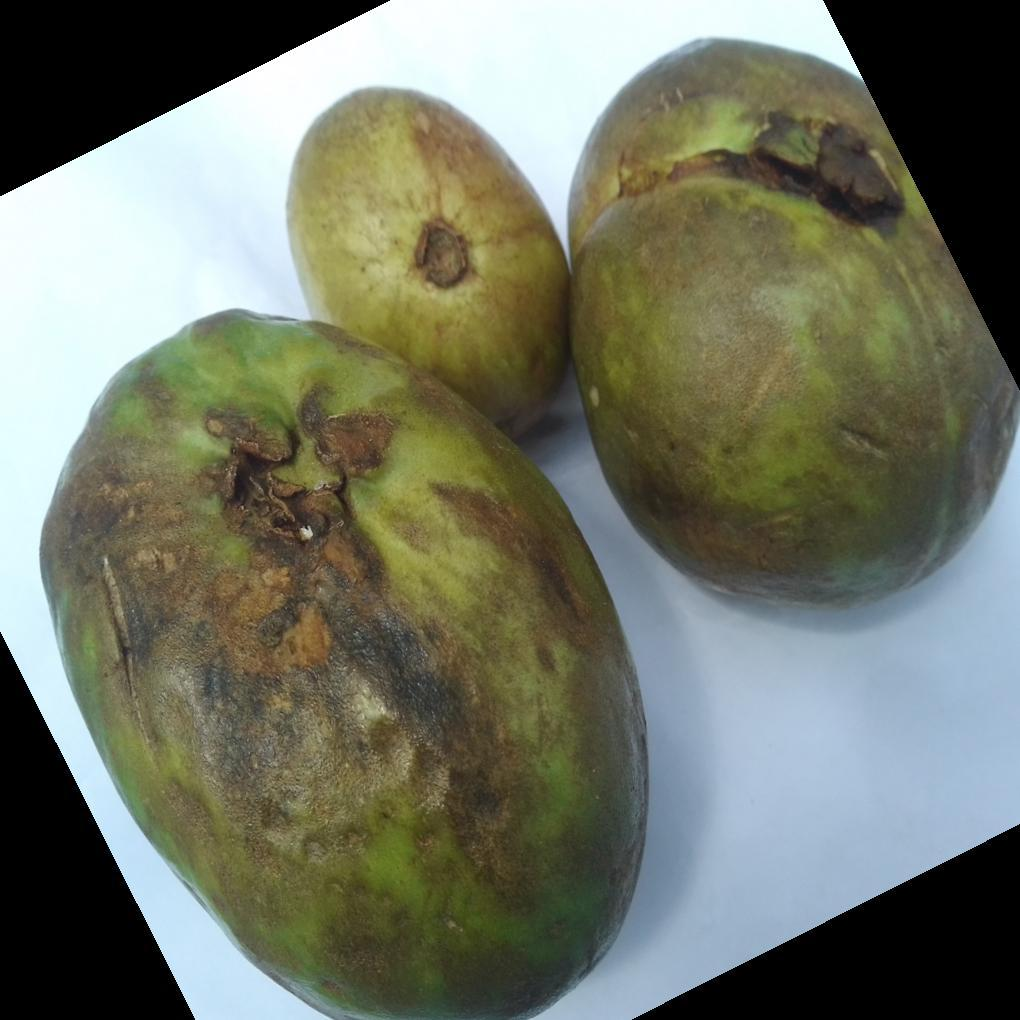FreshOrange: (37, 35, 1020, 1020)
